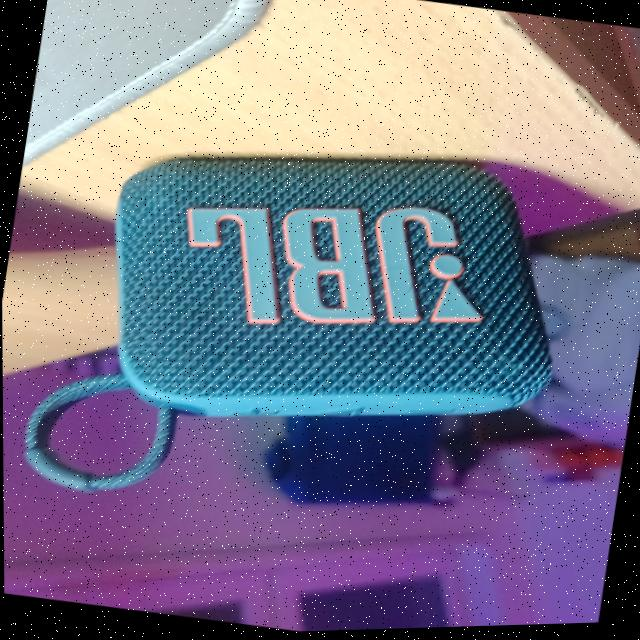column JBL: (11, 102, 596, 566)
